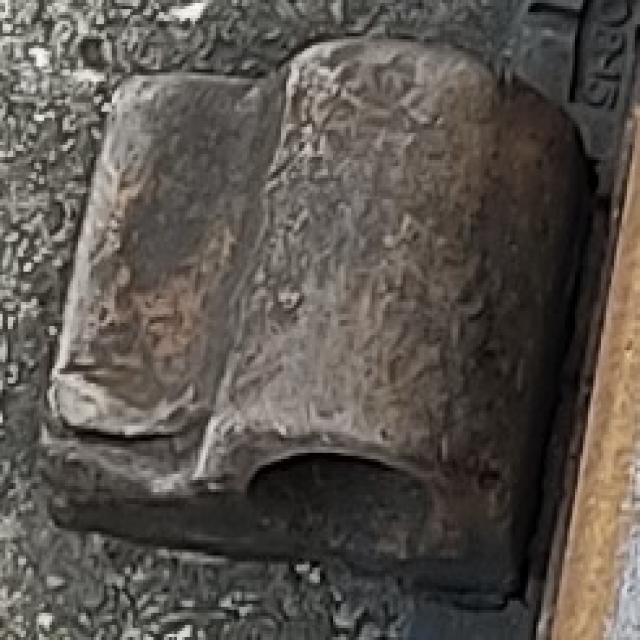track_bolt_missing: (190, 24, 559, 546)
